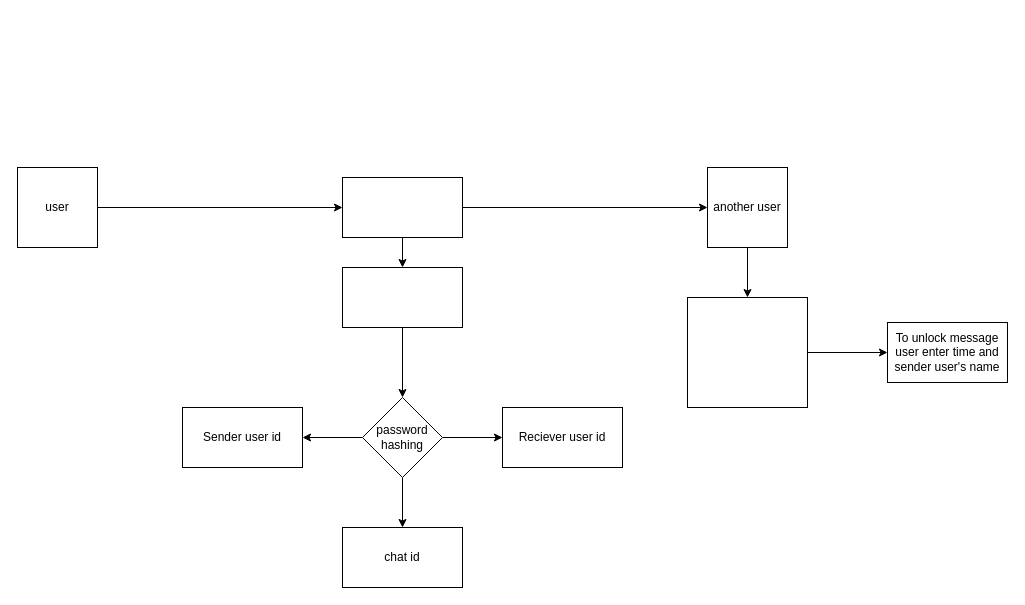
Some shapes in this 1025 by 605 pixel diagram are drawn without their labels. Each missing label, with the centre of its shape:
hashed message: point 402,297
message: point 402,207
Reciever user can message only 1 minute after the message locked: point 747,352
